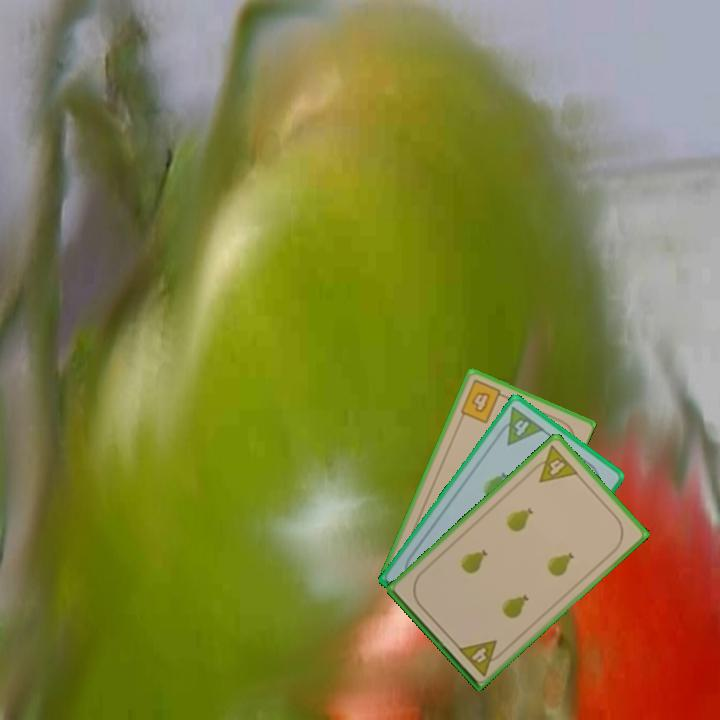4b: (457, 376, 509, 426)
4p: (493, 403, 547, 448), (527, 441, 581, 485), (454, 636, 508, 679)
